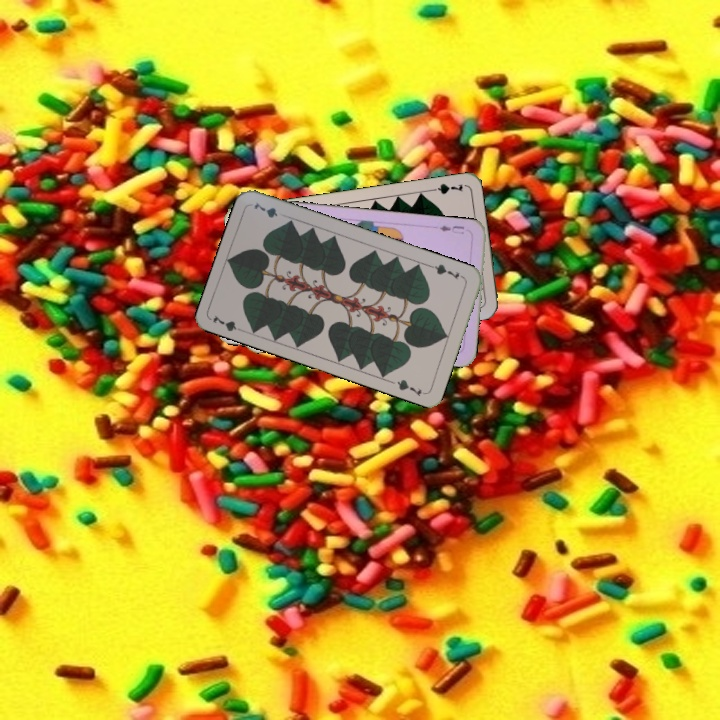EU: (436, 221, 467, 237)
G7: (209, 311, 248, 336), (427, 260, 467, 282), (425, 179, 466, 197)
